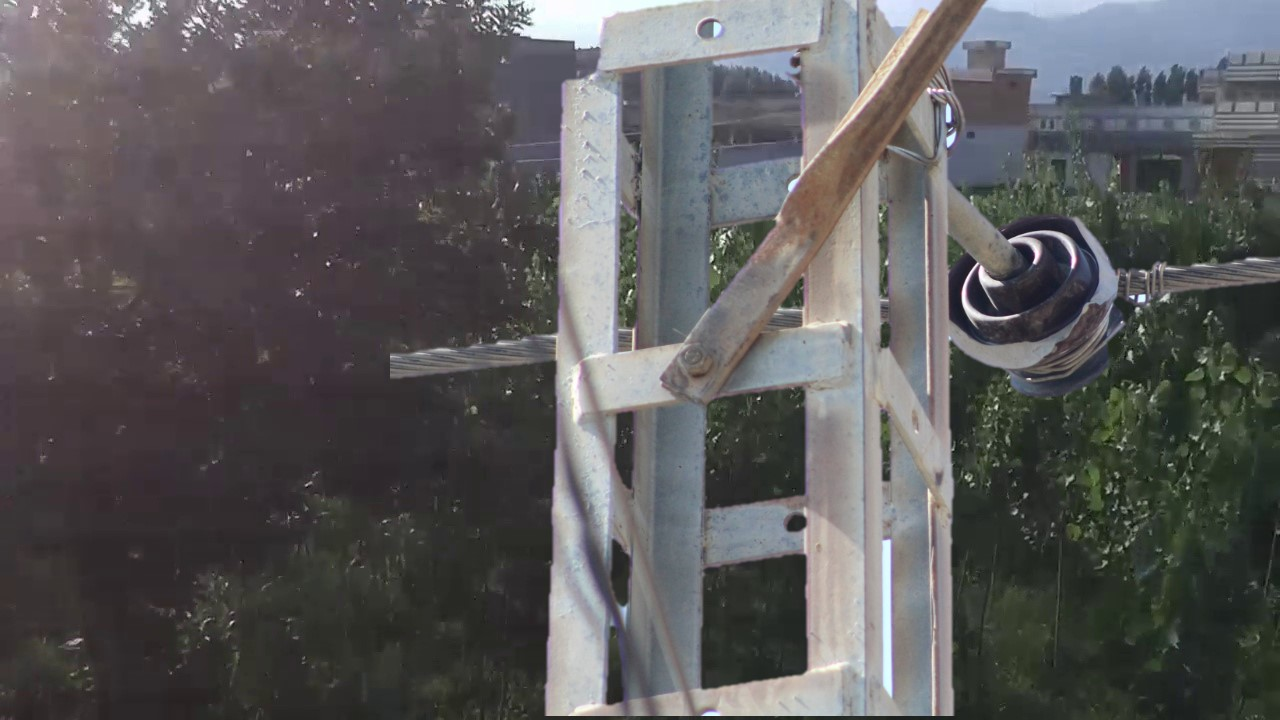defect_pin: (947, 212, 1134, 409)
